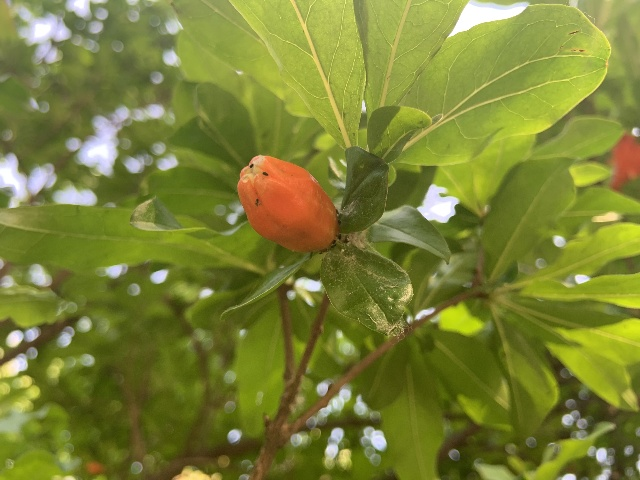bud: (236, 155, 339, 253)
